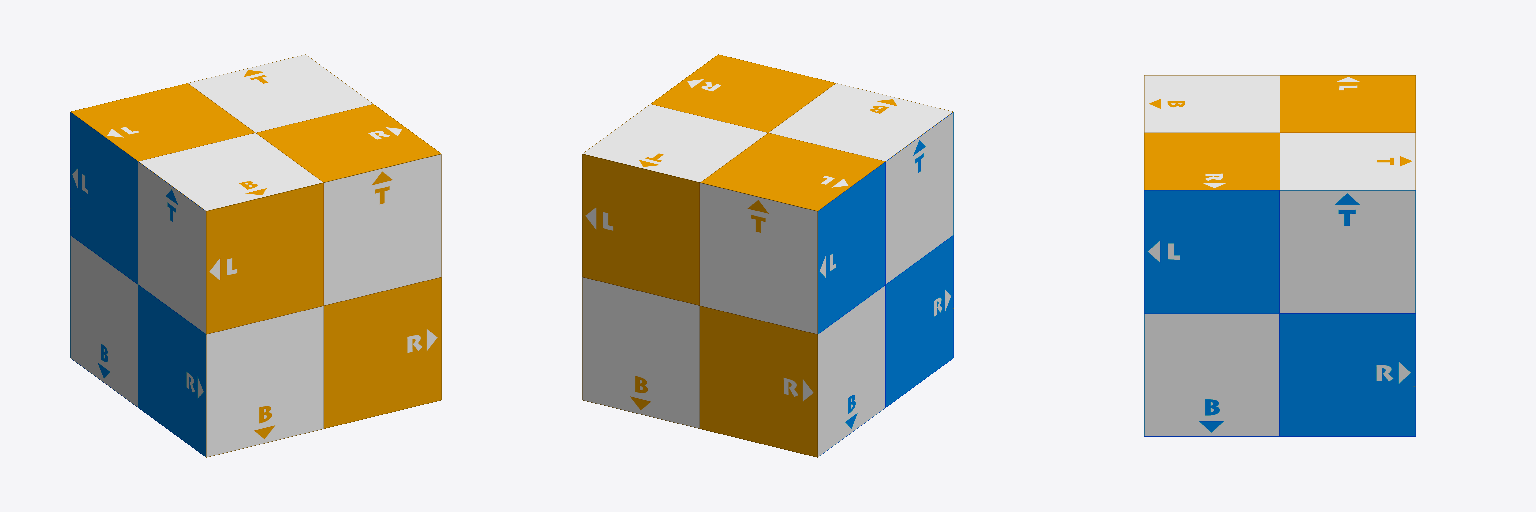
3 views of the same model, side by side, from view 1: azimuth 30°, elevation 25°; view 2: azimuth 150°, elevation 25°; view 3: azimuth 270°, elevation 25° (orthographic).
Bounding box in the file's own units: 1 × 1 × 1.
2 materials, 2 textured.